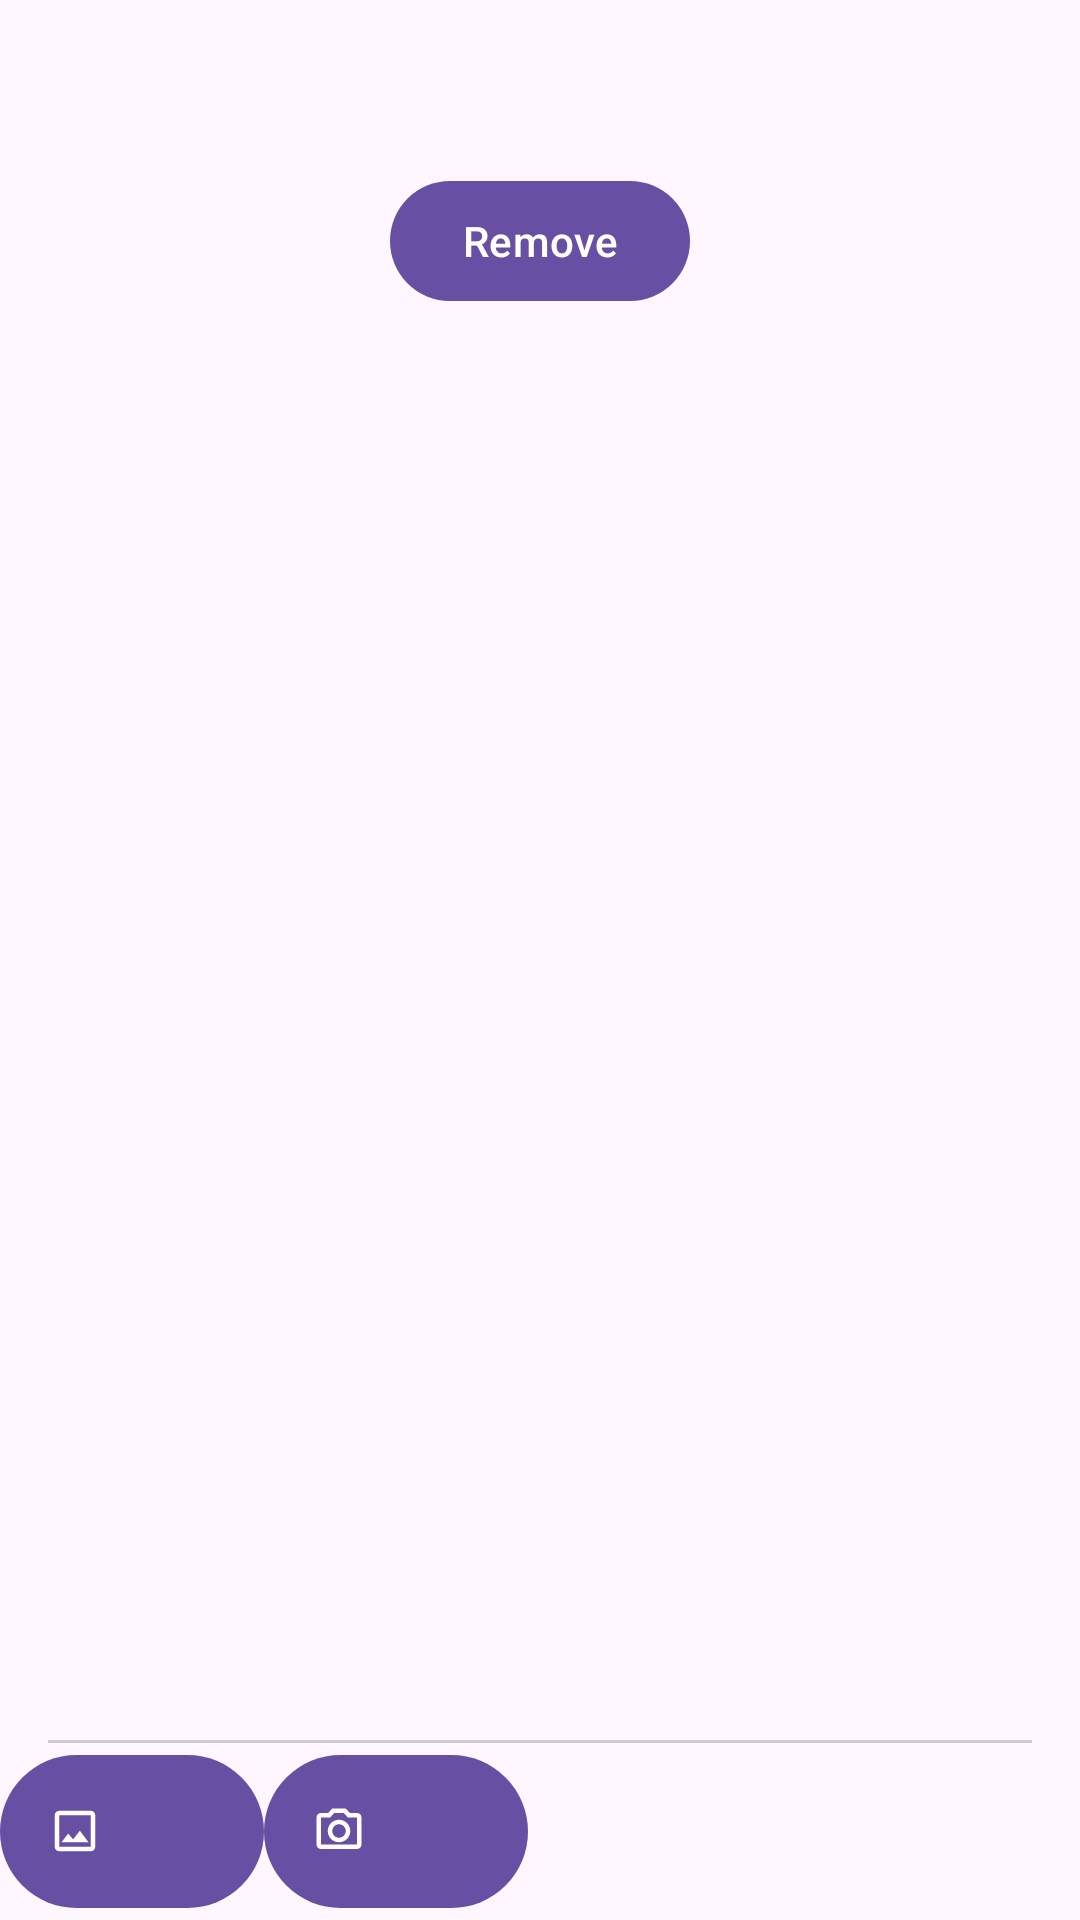

Icon bounding boxes for this 1080px x 1920px phone screenshot, format bbox=[x1, y1, x2, y2]:
Select photo: bbox=[0, 1755, 264, 1908]
Take photo: bbox=[264, 1755, 528, 1908]
